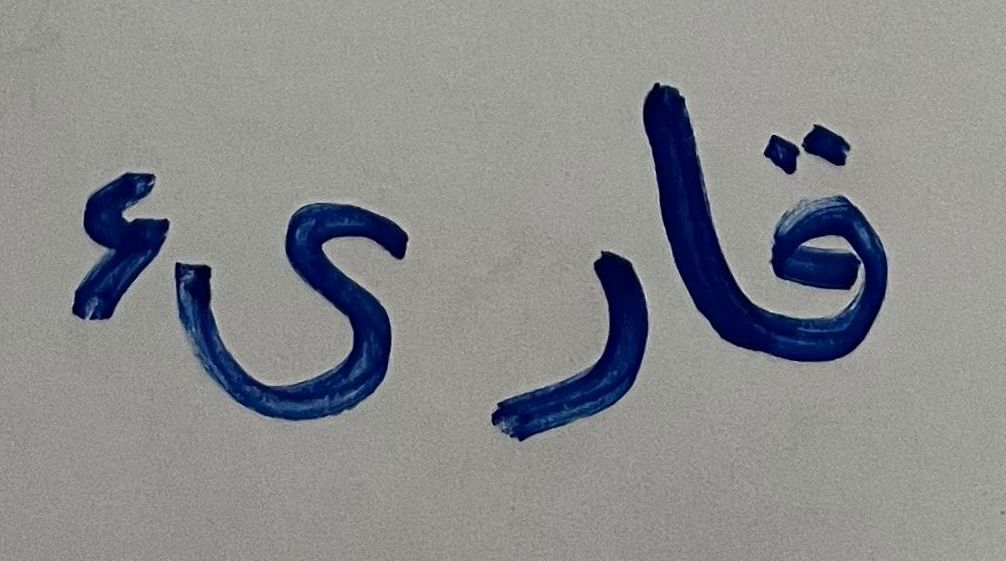alef: (649, 60, 742, 357)
hamza: (45, 132, 172, 349)
qaf: (746, 105, 941, 429)
reh: (465, 207, 646, 471)
yeh: (176, 191, 433, 461)
